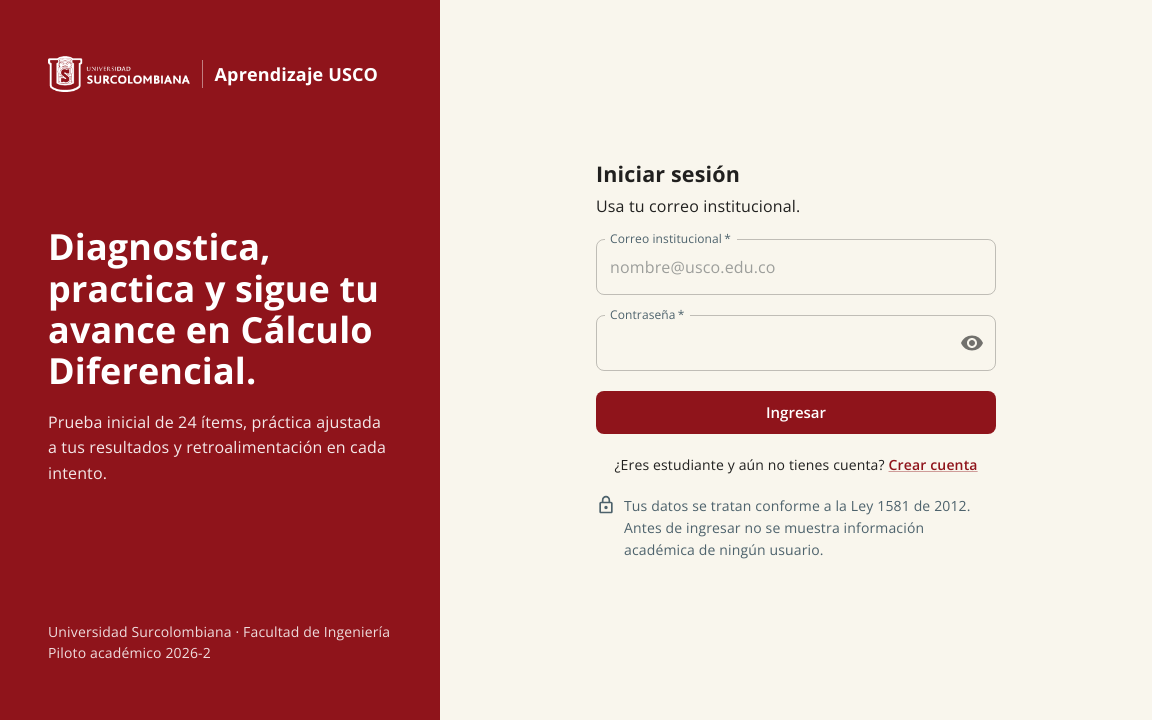
Test: LoginPage › muestra el mensaje genérico del backend con credenciales erradas
Type "u20201234567@usco.edu.co" into the field labelled "Correo institucional *" at [796, 267], box x1=596 y1=239 x2=996 y2=295
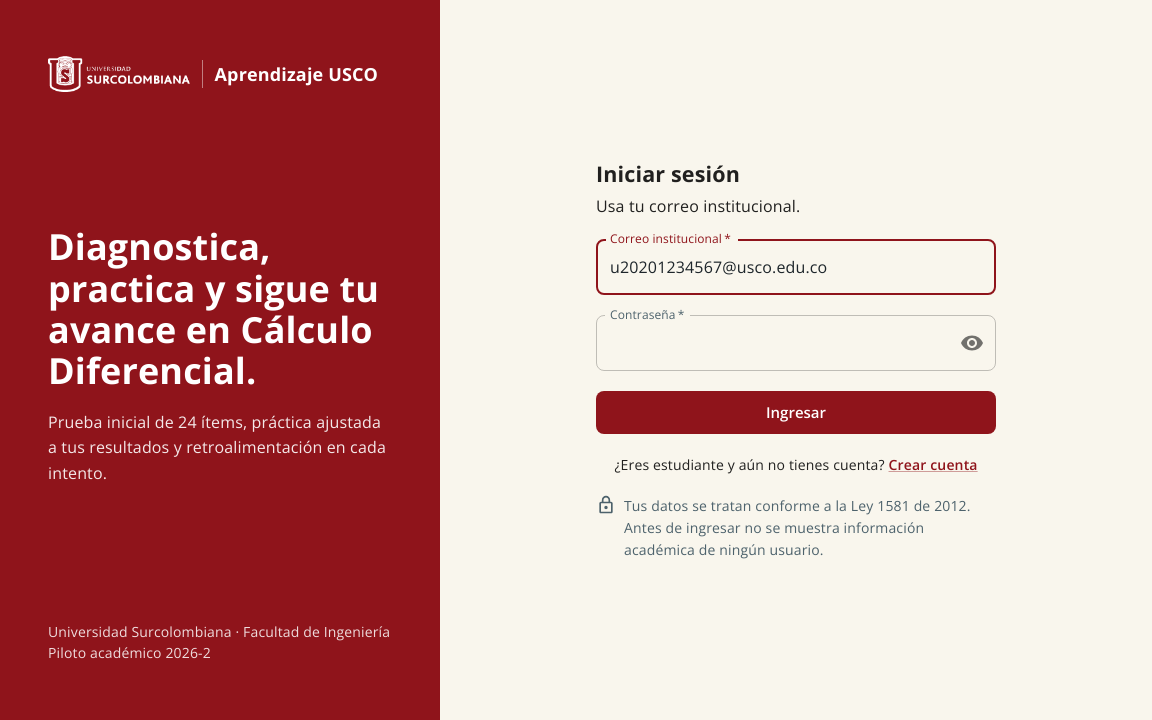
Type "mala" into the password field labelled "Contraseña *" at [769, 343], box x1=596 y1=315 x2=942 y2=371
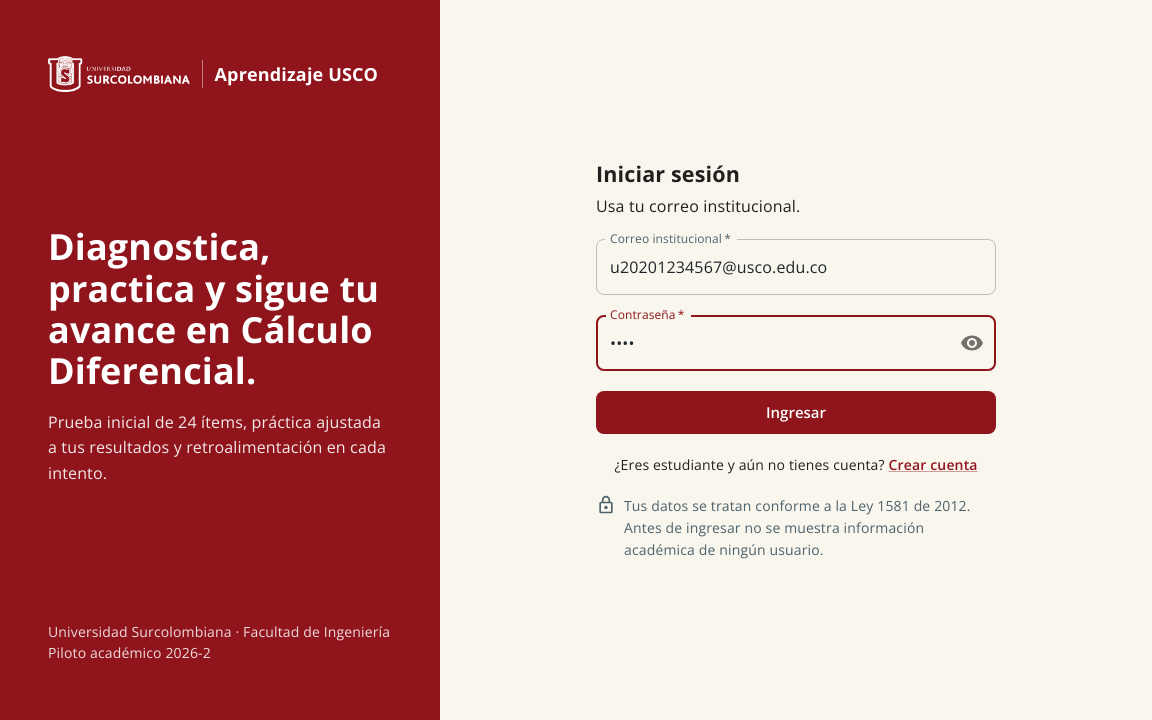
Click the button "Ingresar" at [796, 412], box x1=596 y1=391 x2=996 y2=434
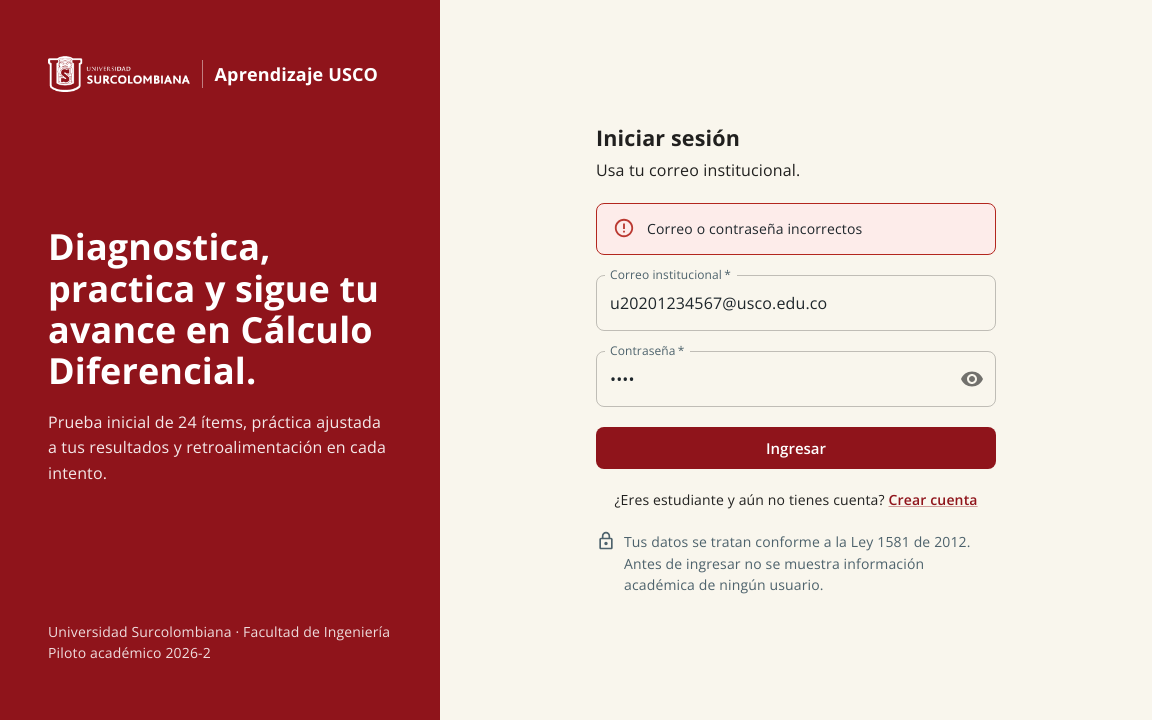
Now the message reads "Correo o contraseña incorrectos", box x1=647 y1=220 x2=862 y2=238
